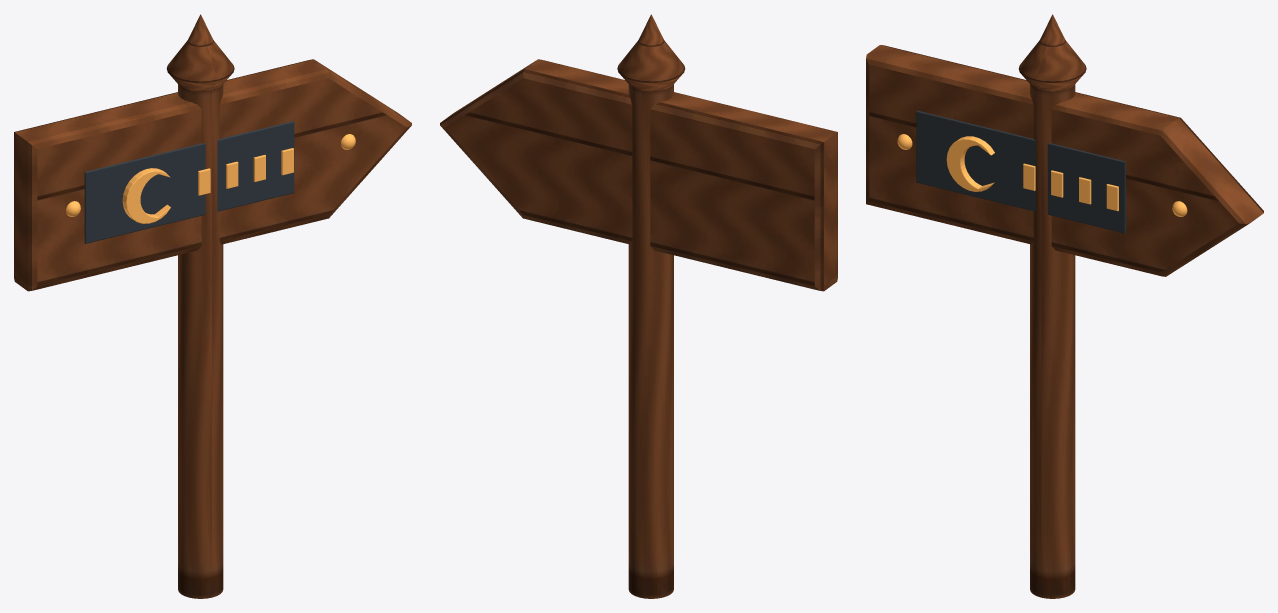
The model's file is hollowwick-halloween-hollowwick-trail-sign-4ef46c36__21653.glb.
3 renders of one model, left to right at view 1: azimuth 30°, elevation 25°; view 2: azimuth 150°, elevation 25°; view 3: azimuth 330°, elevation 25°, orthographic.
Visible parts, largest first — view 1: hollowwick-trail-sign; view 2: hollowwick-trail-sign; view 3: hollowwick-trail-sign.
Part boxes in pixels (x1=…): hollowwick-trail-sign: x1=14, y1=14, x2=411, y2=598; hollowwick-trail-sign: x1=440, y1=14, x2=837, y2=598; hollowwick-trail-sign: x1=866, y1=14, x2=1263, y2=598.
Size of the model in its own units: 1.17 by 1.68 by 0.1801.
3 materials, 1 textured.
